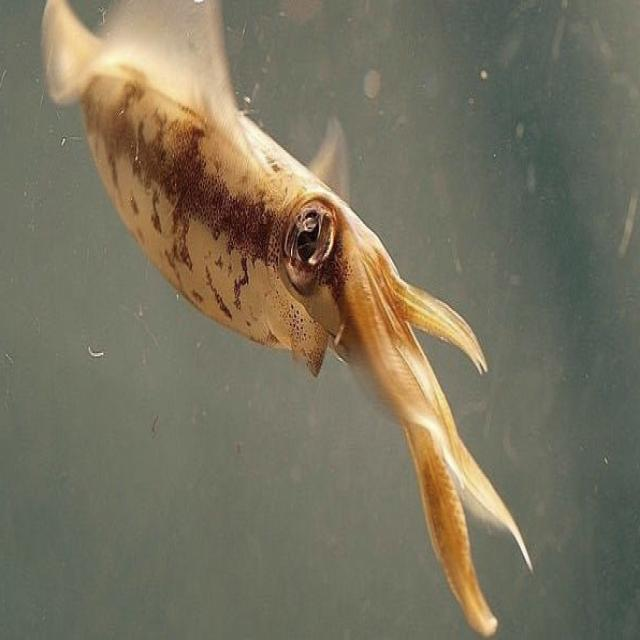squid: (43, 0, 532, 635)
